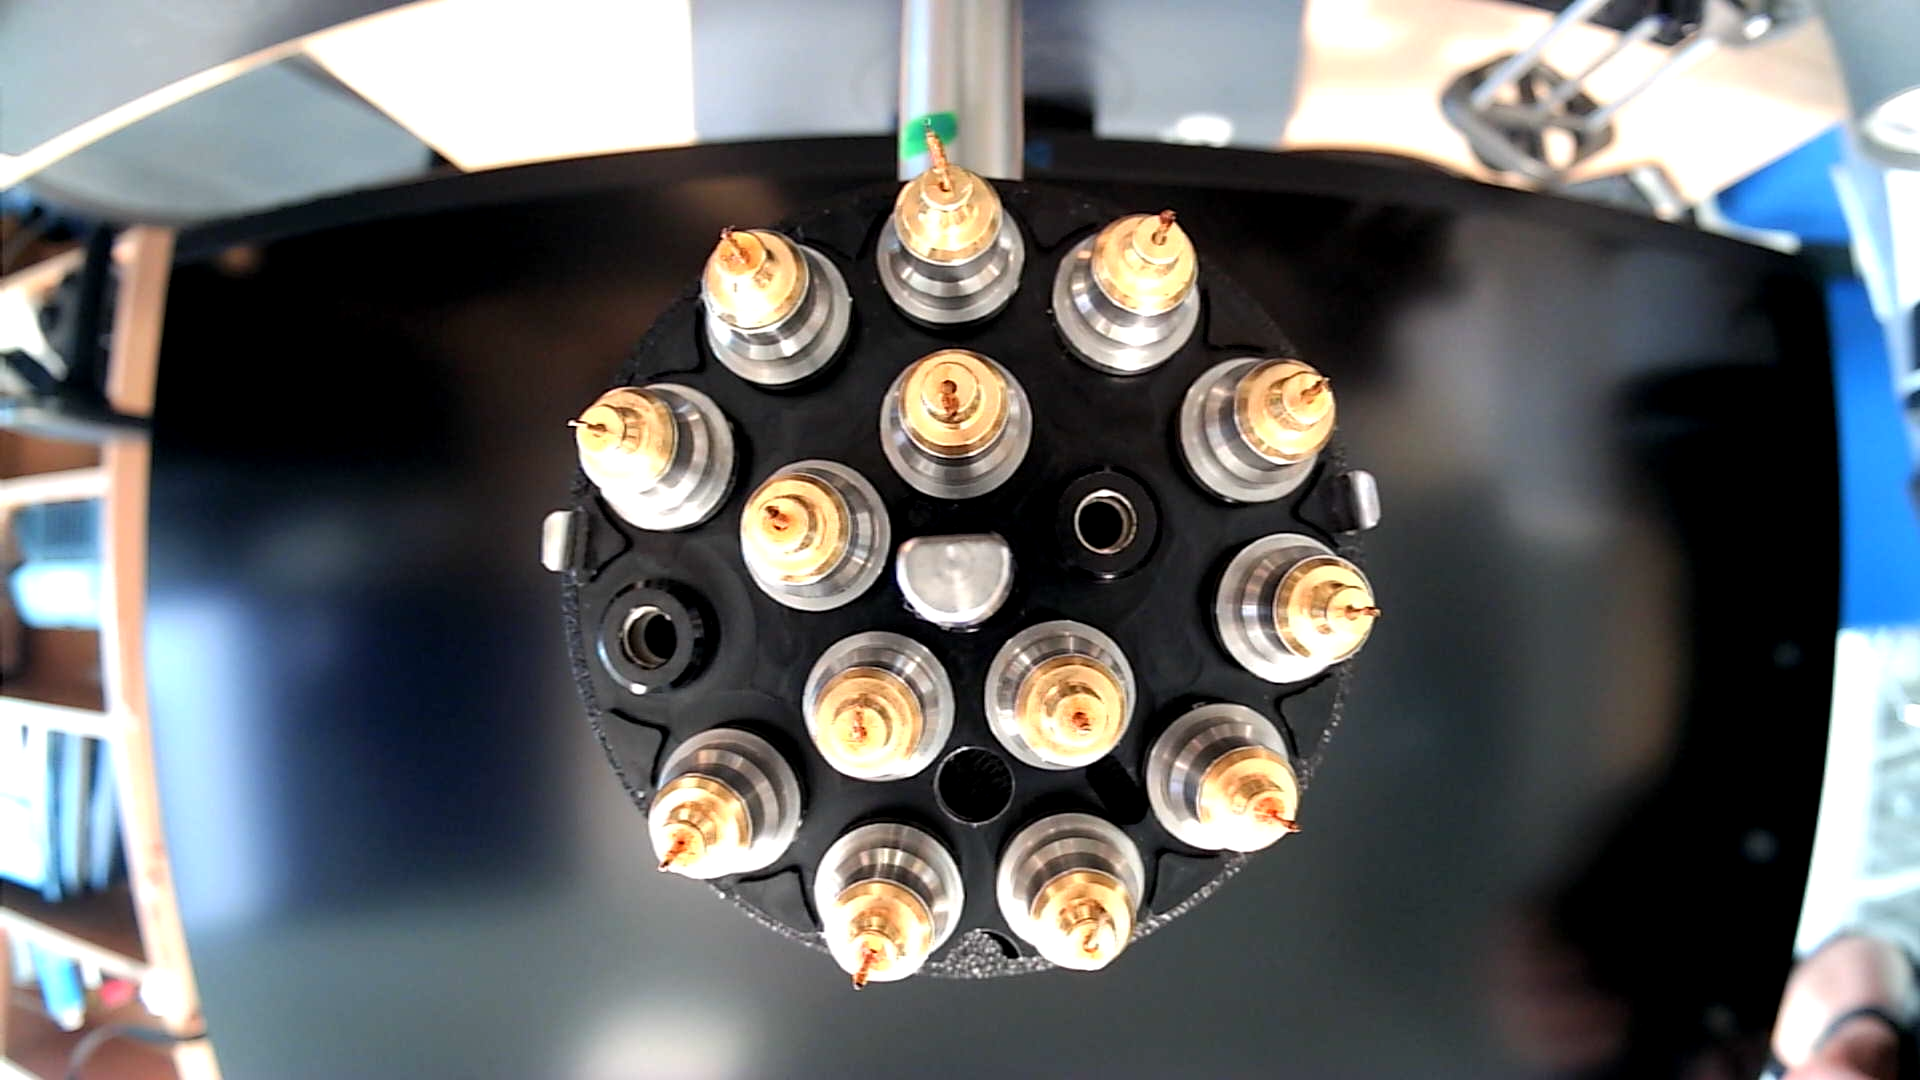bent: (873, 127, 1025, 334), (996, 808, 1149, 978), (876, 345, 1036, 504), (799, 628, 957, 785)
empty: (585, 572, 723, 705), (1046, 460, 1168, 592)
hole: (930, 742, 1021, 832)
pin: (811, 816, 967, 996), (1203, 529, 1375, 686), (564, 378, 737, 533), (698, 214, 852, 382), (1052, 204, 1203, 376), (1142, 700, 1303, 860), (645, 723, 800, 884), (1178, 352, 1337, 506), (736, 455, 891, 611), (981, 618, 1138, 773)
rod: (895, 531, 1015, 633)
